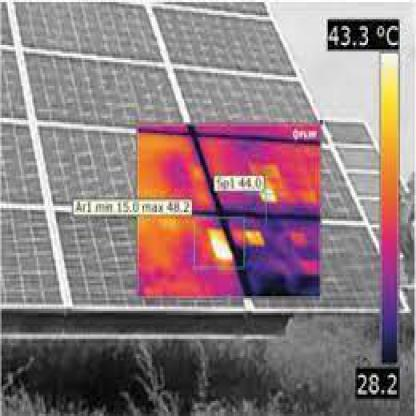Defects: (208, 227, 232, 270), (244, 227, 262, 251), (261, 189, 277, 206)
